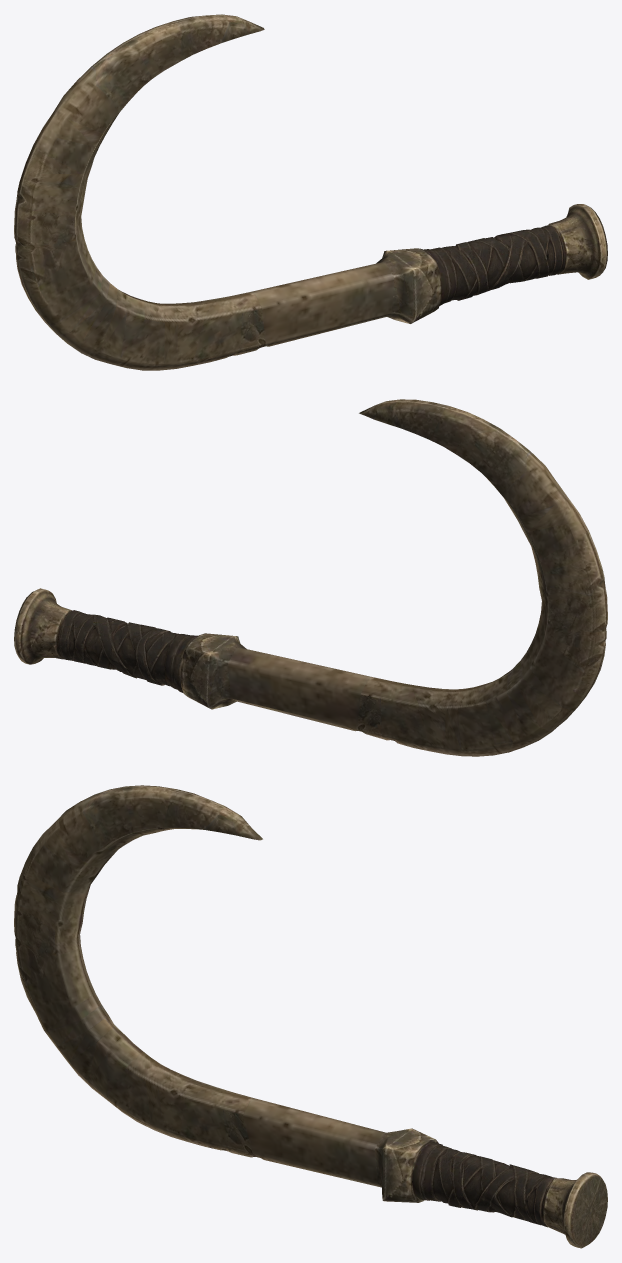
Rendered from khopesh.glb.
3 renders of one model, top to bottom at view 1: azimuth 30°, elevation 25°; view 2: azimuth 150°, elevation 25°; view 3: azimuth 330°, elevation 25°, orthographic.
Size of the model in its own units: 0.9478 by 0.5571 by 0.1074.
1 material, 1 textured.
